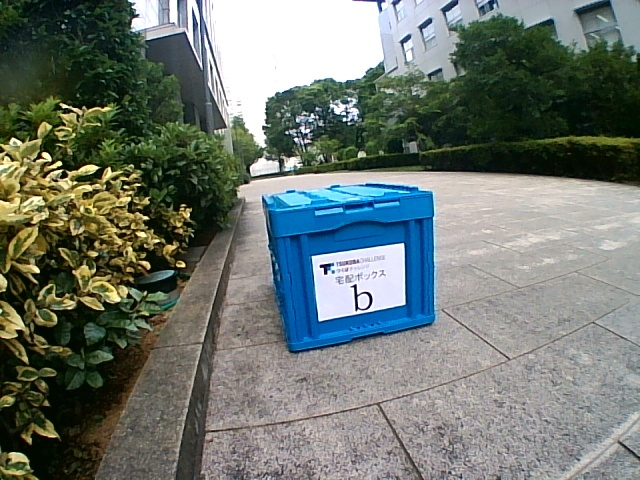green_box: (261, 182, 435, 352)
tag_a: (319, 257, 402, 310)
